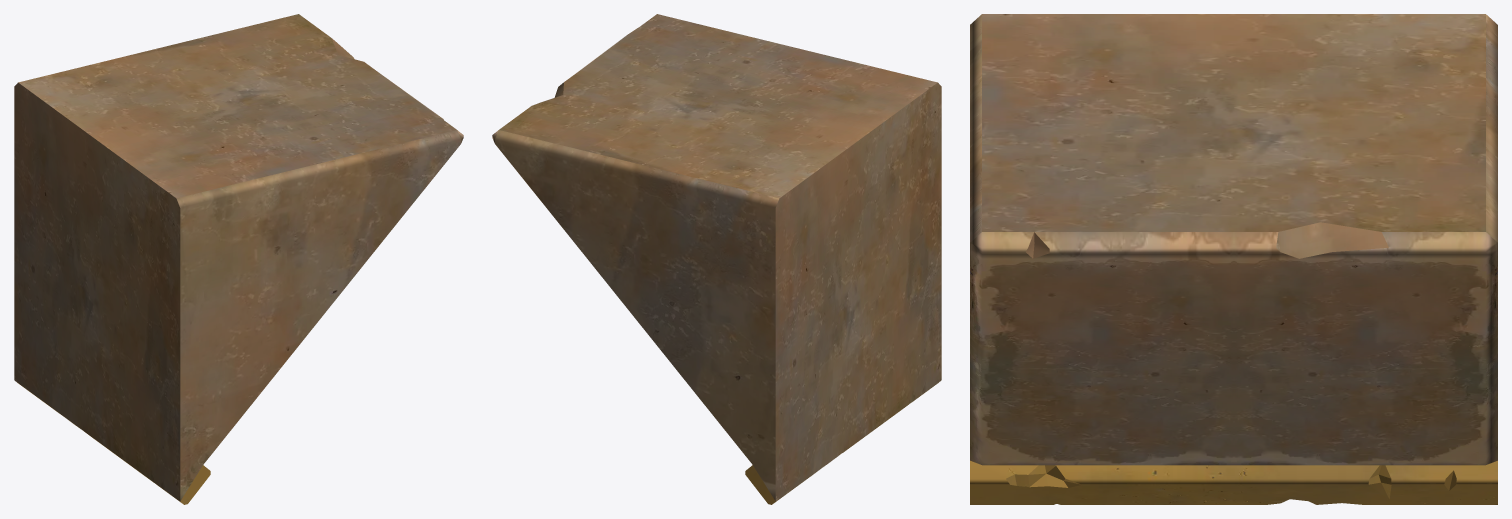
3 renders of one model, left to right at view 1: azimuth 30°, elevation 25°; view 2: azimuth 150°, elevation 25°; view 3: azimuth 270°, elevation 25°, orthographic. The views are drawn at different scales.
Parts seen in each view (by area): view 1: SM_Vault_4m_Ceiling_01_V2_LOD0; view 2: SM_Vault_4m_Ceiling_01_V2_LOD0; view 3: SM_Vault_4m_Ceiling_01_V2_LOD0.
Part boxes in pixels (left/top/right/bottom): SM_Vault_4m_Ceiling_01_V2_LOD0: left=14, top=14, right=463, bottom=504; SM_Vault_4m_Ceiling_01_V2_LOD0: left=492, top=14, right=941, bottom=504; SM_Vault_4m_Ceiling_01_V2_LOD0: left=970, top=14, right=1497, bottom=504.
Bounding box in the file's own units: 2.01 × 2.03 × 2.
Materials: 2 (2 with a texture image).
